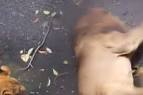lion: (73, 8, 142, 95)
